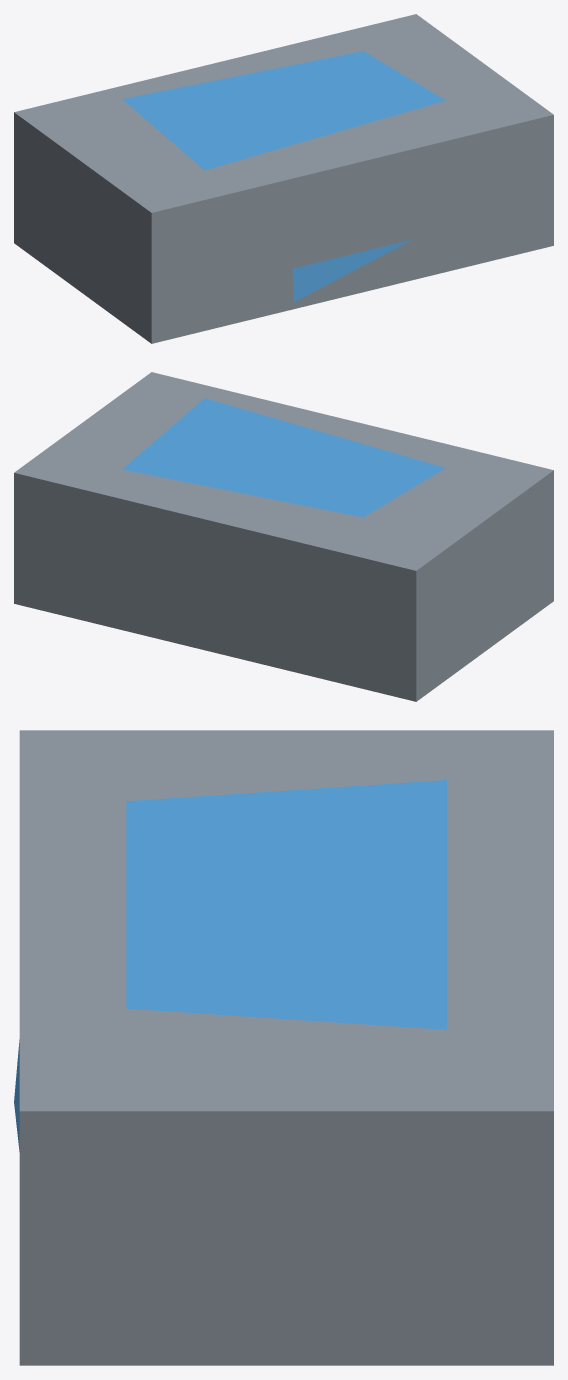
Rendered from AL_BulwarkMBT_LOD1.glb.
3 views of the same model, one above another, from view 1: azimuth 30°, elevation 25°; view 2: azimuth 150°, elevation 25°; view 3: azimuth 270°, elevation 25° (orthographic). The views are drawn at different scales.
Visible parts, largest first — view 1: EntranceGate; view 2: EntranceGate; view 3: EntranceGate.
Boxes of the visible parts, x1,y1,x2,y2 form: EntranceGate: (14, 14, 553, 343); EntranceGate: (14, 372, 553, 701); EntranceGate: (14, 730, 553, 1365).
Size of the model in its own units: 540 by 186 by 323.
